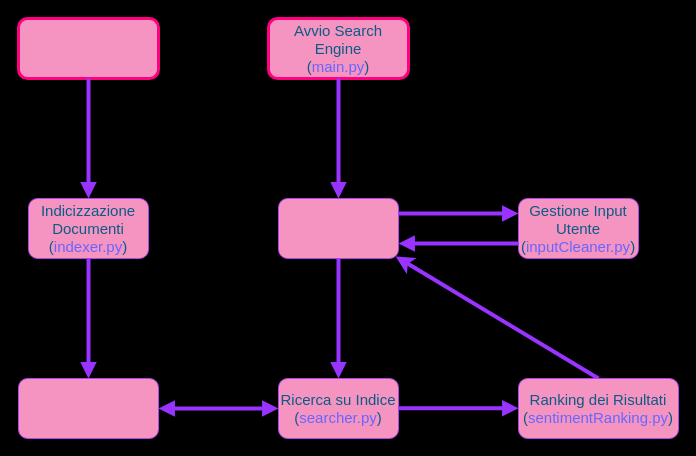
This 696x456 diagram has some shape labels left out. The box of each missing label's shape, as (x1, y1, x2, y2) in pixels:
Avvio Indicizzazione ( indexerStarter.py ): (16, 16, 160, 80)
GUI ( userInterface.py ): (278, 198, 398, 258)
Indice ( ' sentimentIndex '): (18, 378, 158, 438)
